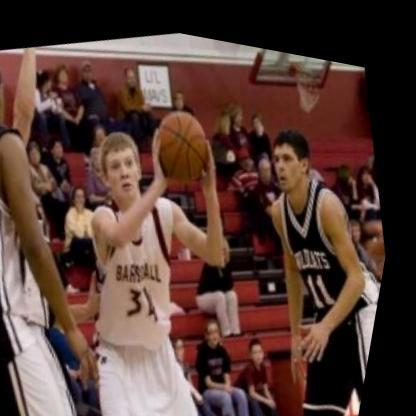basketball: (145, 93, 221, 181)
